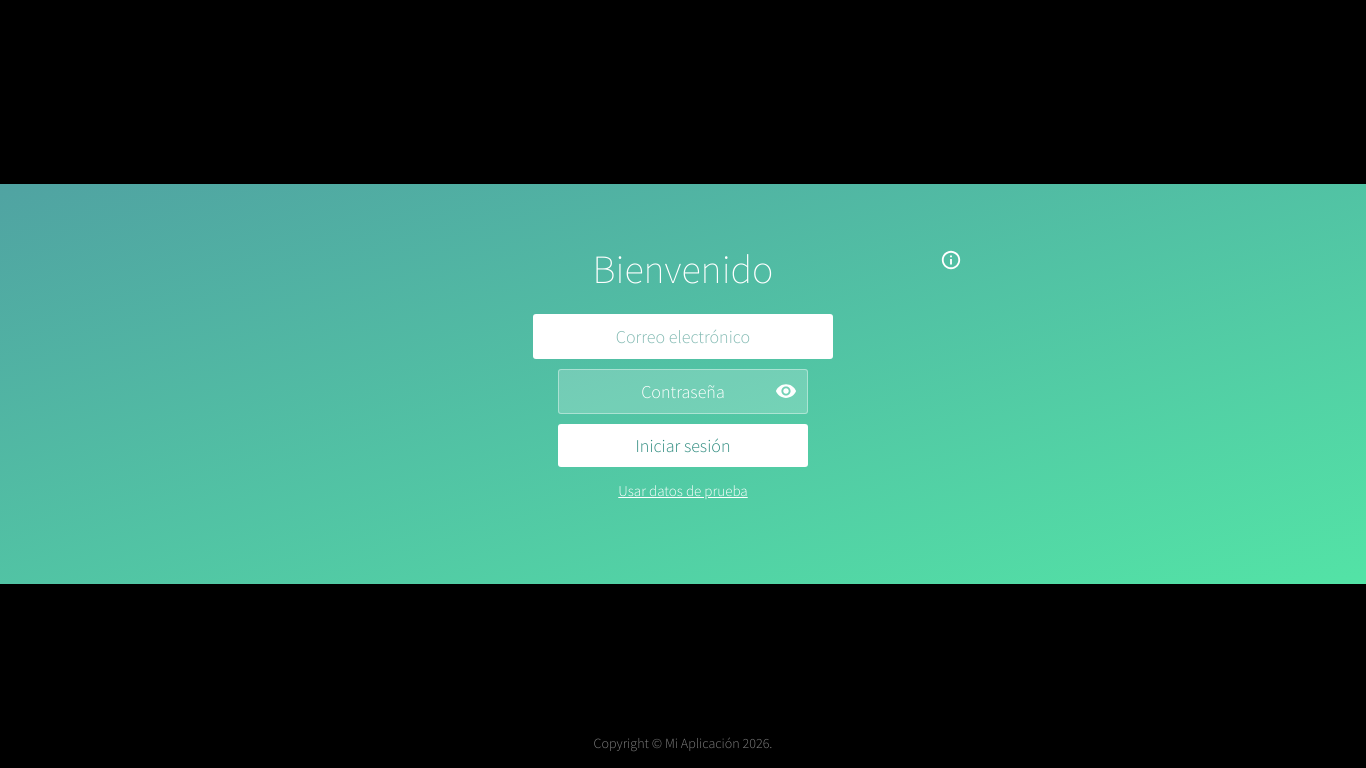
Flujo de login › CA-01/CA-04/CA-08: muestra errores de campos vacíos y no autentica
The width and height of the screenshot is (1366, 768).
Step 1. Click the button "Iniciar sesión" → (683,446), box [558,424,808,467]
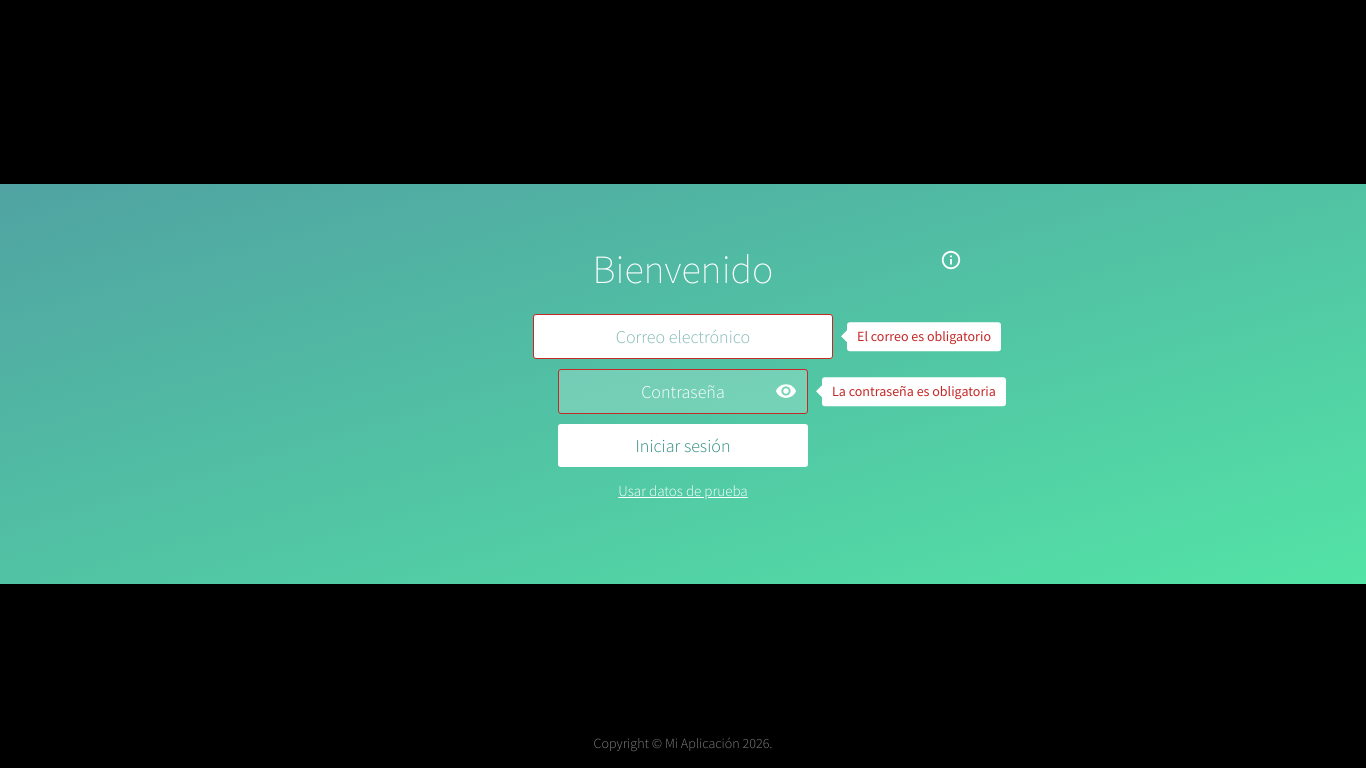
expect the text "El correo es obligatorio" is shown: met, box [847,322,1001,351]
expect the text "La contraseña es obligatoria" is shown: met, box [822,377,1006,406]
